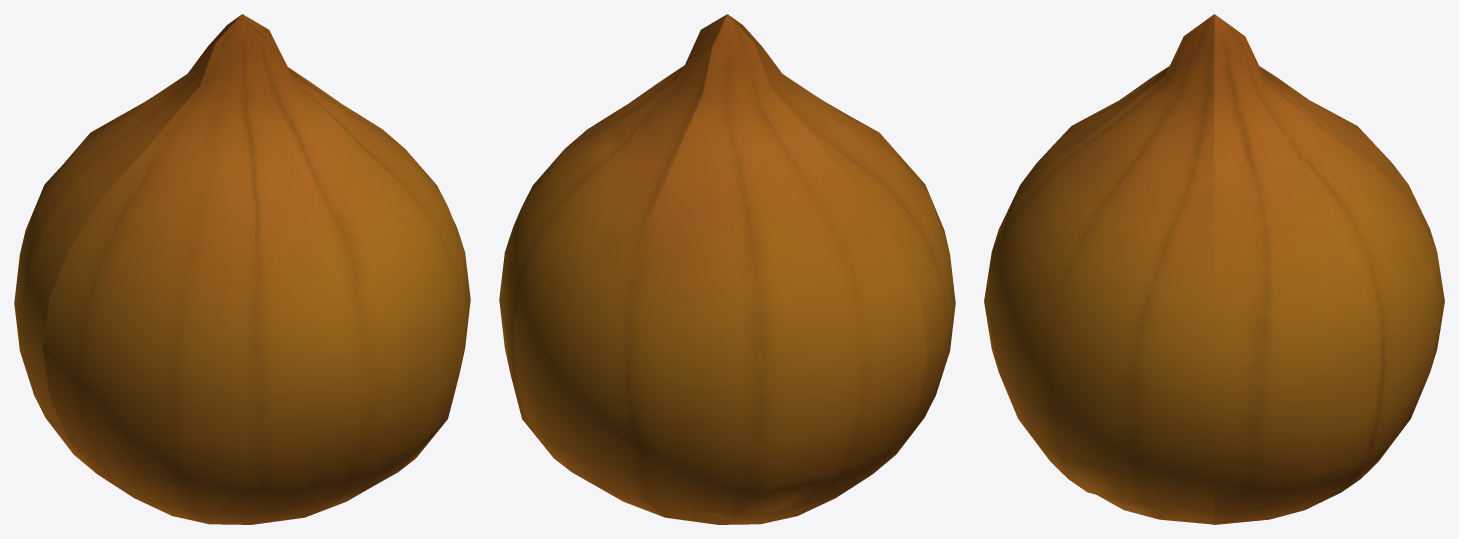
File: Onion.glb
3 views of the same model, side by side, from view 1: azimuth 30°, elevation 25°; view 2: azimuth 150°, elevation 25°; view 3: azimuth 270°, elevation 25° (orthographic).
Visible parts, largest first — view 1: Onion_Whole; view 2: Onion_Whole; view 3: Onion_Whole.
Boxes of the visible parts, left/top/right/bottom form: Onion_Whole: left=14, top=14, right=470, bottom=524; Onion_Whole: left=499, top=14, right=955, bottom=524; Onion_Whole: left=984, top=14, right=1444, bottom=524.
Size of the model in its own units: 0.7626 by 0.9008 by 0.7626.
1 material, 1 textured.
